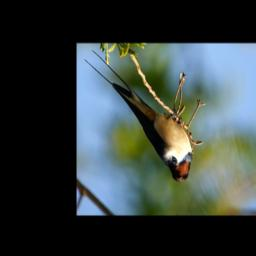Swallow: (84, 50, 192, 183)
